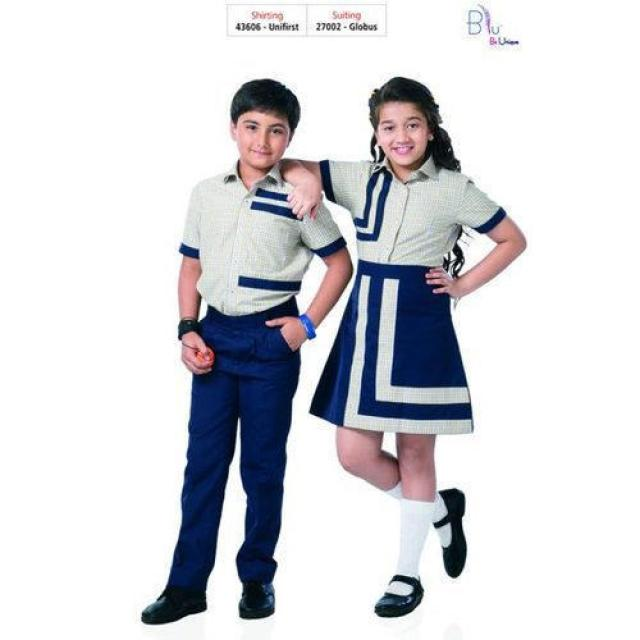child: (133, 69, 355, 635), (308, 59, 530, 625)
